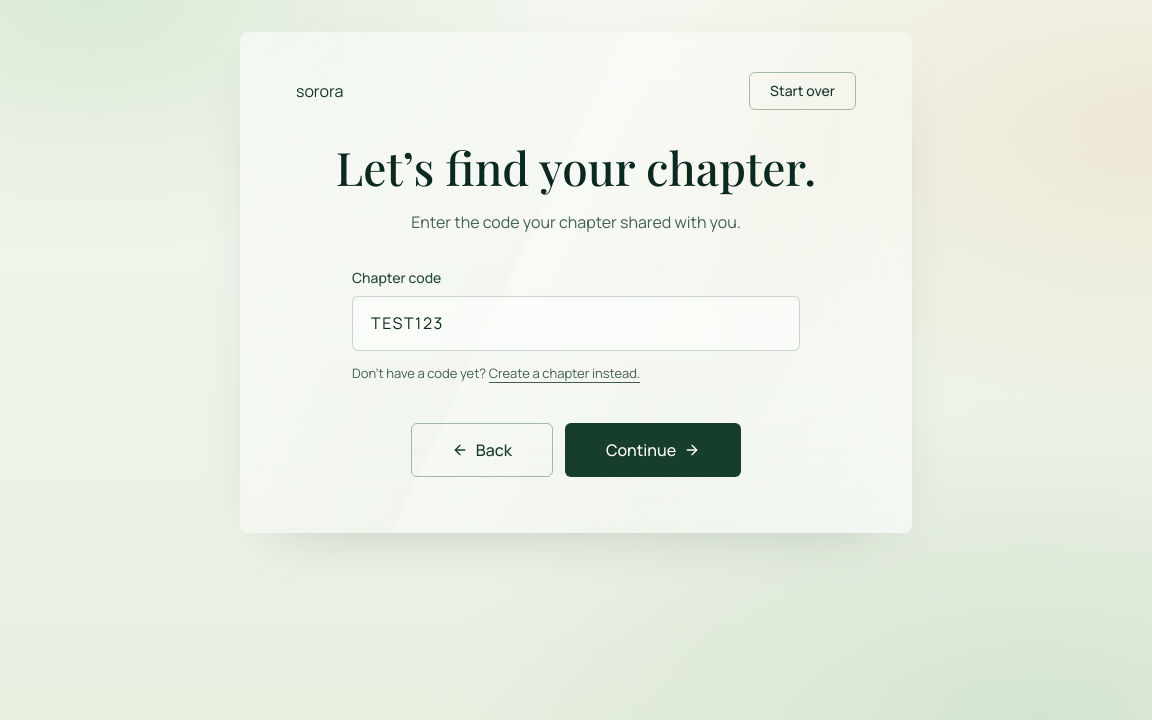
Scenario: chapter code network failure leaves Continue available for retry
The width and height of the screenshot is (1152, 720).
What coordinates should you click on to do the following:
click the button "Continue"
I would click on:
 (653, 450)
Its box is [565, 423, 741, 477].
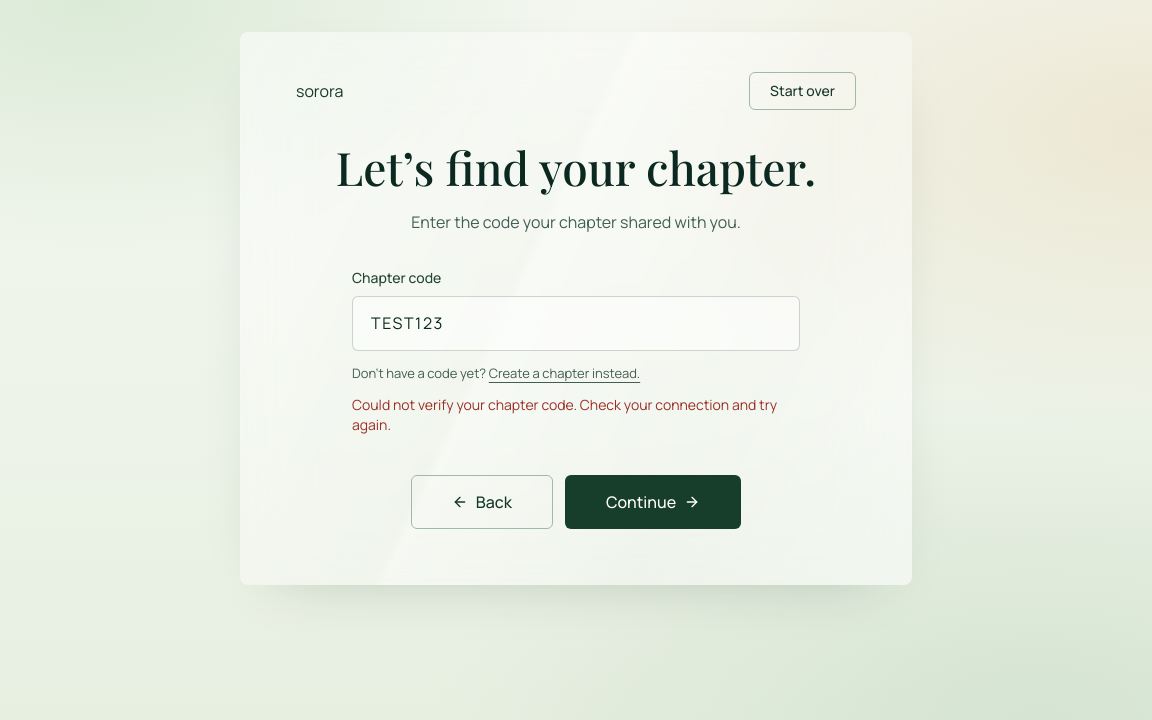
Expected: the button "Continue" is enabled, [565, 475, 741, 529]
Result: the text "Could not verify your chapter code" is shown at [352, 395, 777, 434]
